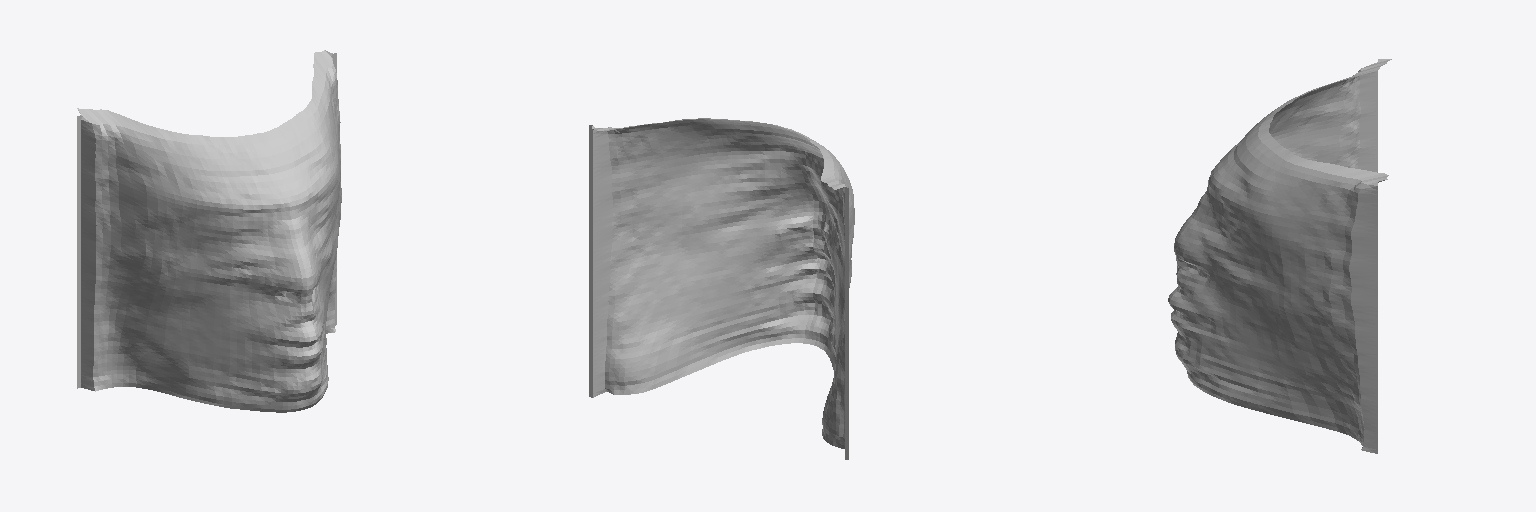
The model's file is result.obj.
3 views of the same model, side by side, from view 1: azimuth 30°, elevation 25°; view 2: azimuth 150°, elevation 25°; view 3: azimuth 270°, elevation 25° (orthographic).
Size of the model in its own units: 18.37 by 18.45 by 13.69.